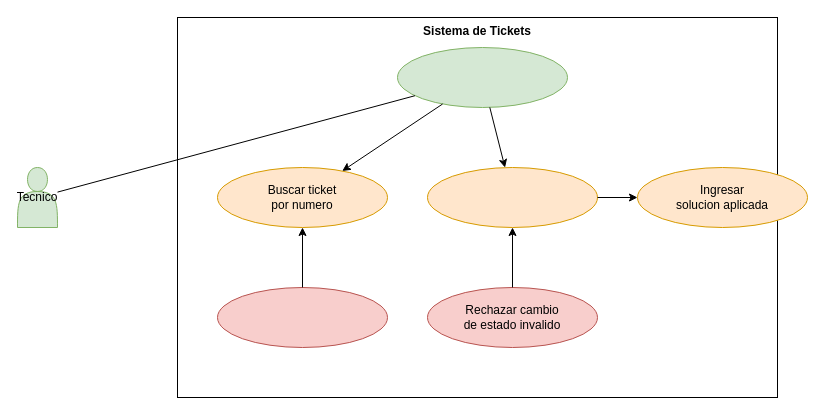
The diagram is 825 pixels wide and 415 high, and some of its shapes have lost their labels. The shapes that lost their labels are listed below. From the top down, each one's centre as x and y in pixels, then its label:
point 482,77: Resolver ticket
point 512,197: Validar flujo: Asignado -> Resuelto
point 302,317: Notificar ticket no encontrado
